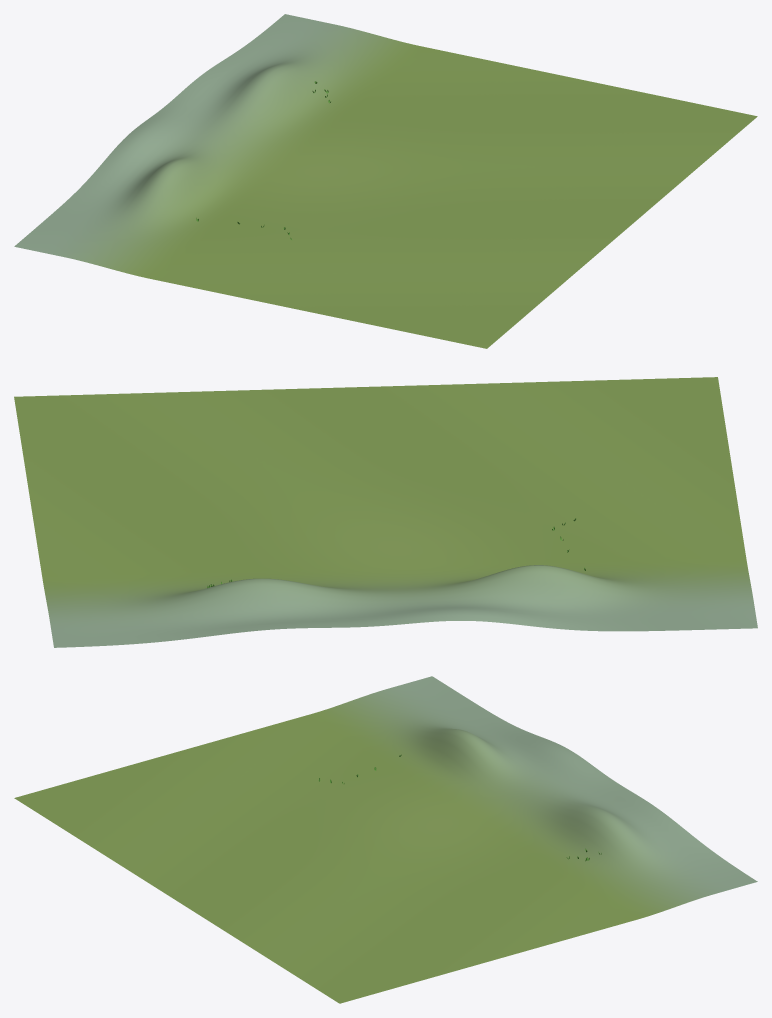
The model's file is passive_environment.glb.
3 renders of one model, top to bottom at view 1: azimuth 30°, elevation 25°; view 2: azimuth 150°, elevation 25°; view 3: azimuth 270°, elevation 25°, orthographic. The views are drawn at different scales.
Parts seen in each view (by area): view 1: Environment | continuous gentle field; view 2: Environment | continuous gentle field; view 3: Environment | continuous gentle field.
Boxes of the visible parts, x1,y1,x2,y2 form: Environment | continuous gentle field: (14, 14, 757, 348); Environment | continuous gentle field: (14, 377, 757, 647); Environment | continuous gentle field: (14, 676, 757, 1003).
Bounding box in the file's own units: 41.89 × 1.64 × 40.65.
